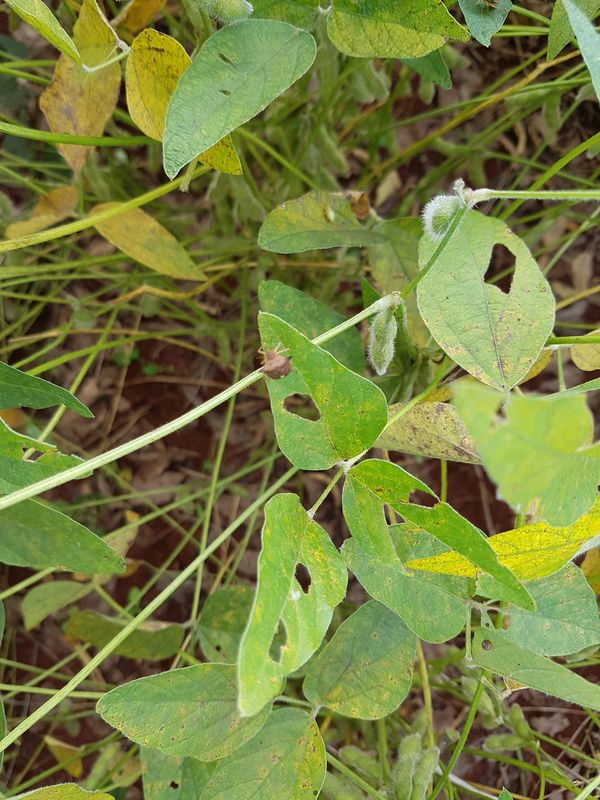Euschistus_heros_adulto: (250, 338, 302, 386)
